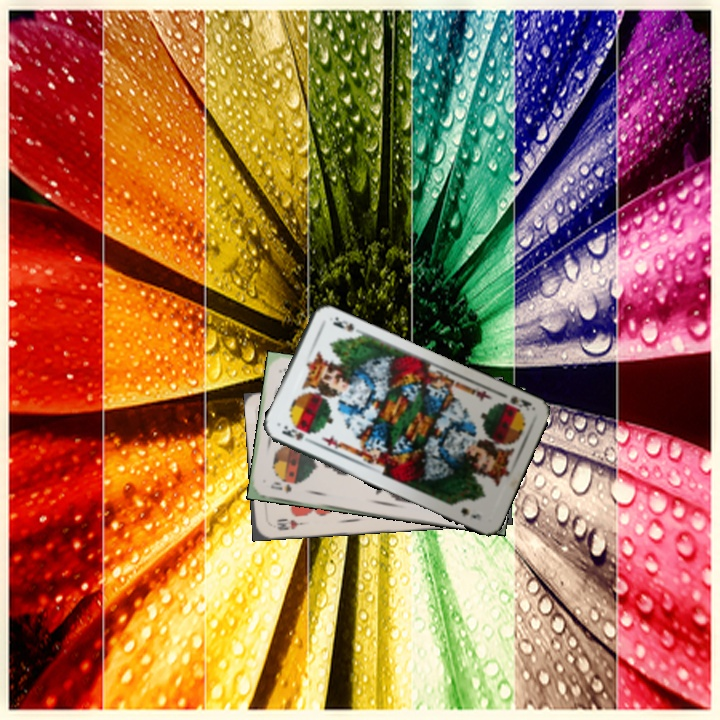H10: (272, 515, 307, 533)
SK: (278, 422, 306, 443), (506, 392, 534, 413)
SO: (266, 478, 294, 496)
